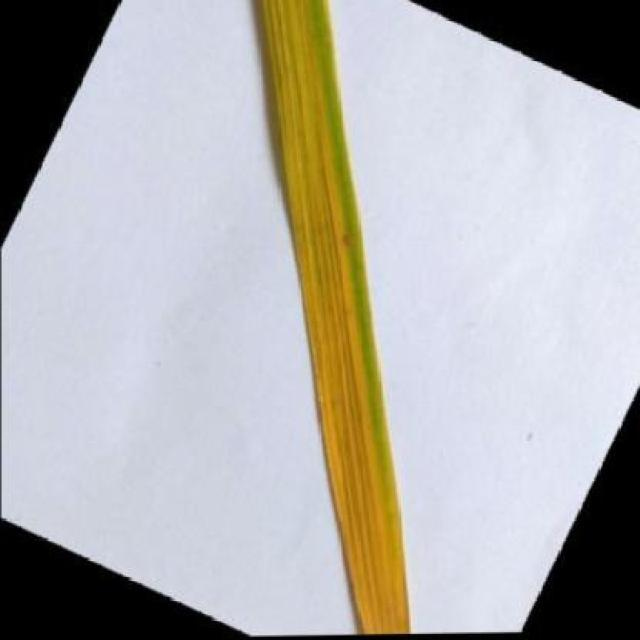Rice False Smut: (233, 0, 424, 637)
